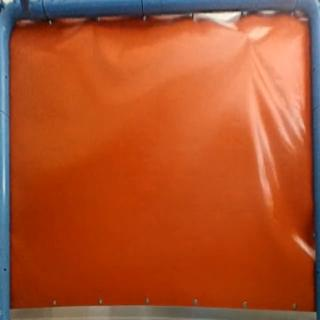Hit-hRxx: (238, 28, 259, 46)
